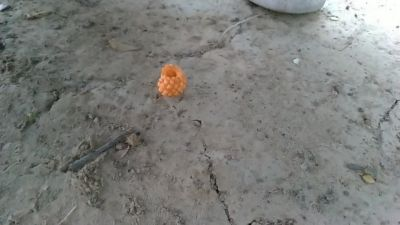eggs: (158, 59, 186, 97)
